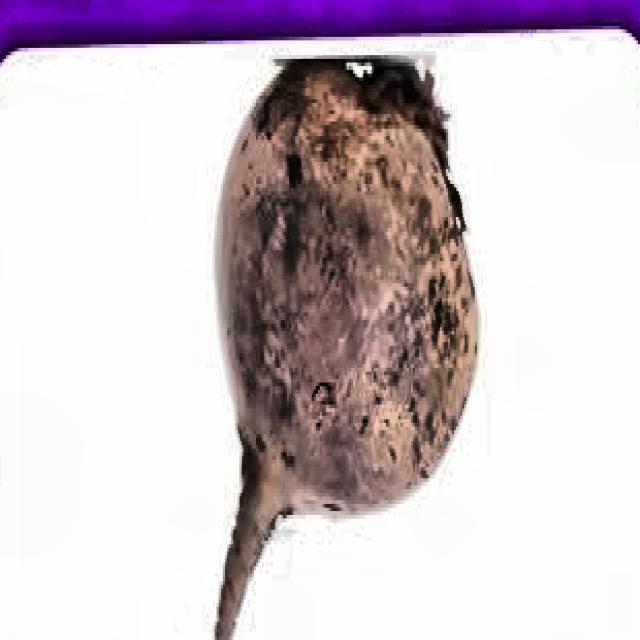Vegetable: (4, 40, 531, 640)
